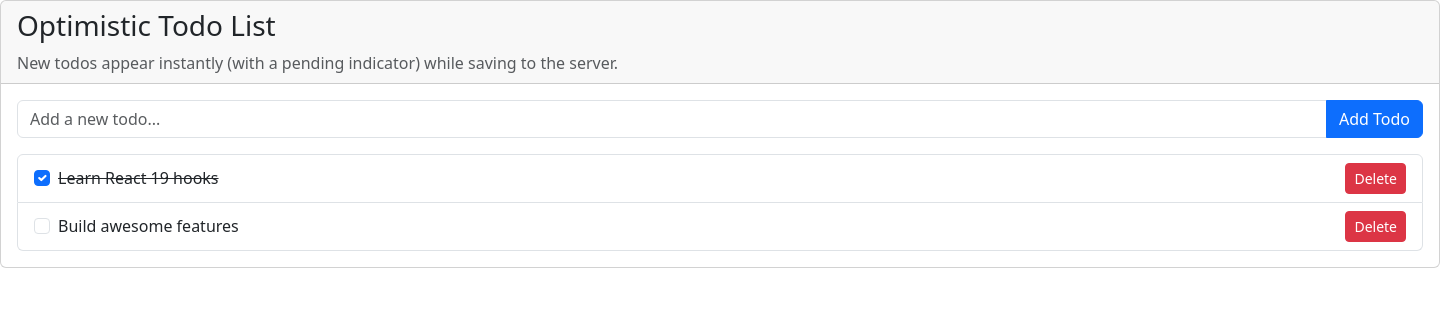
OptimisticTodos › Adding todos › should add todo optimistically
Type "New todo" into the field with placeholder "Add a new todo..." at coordinates (672, 119), box top-left (17, 100), bottom-right (1327, 138)
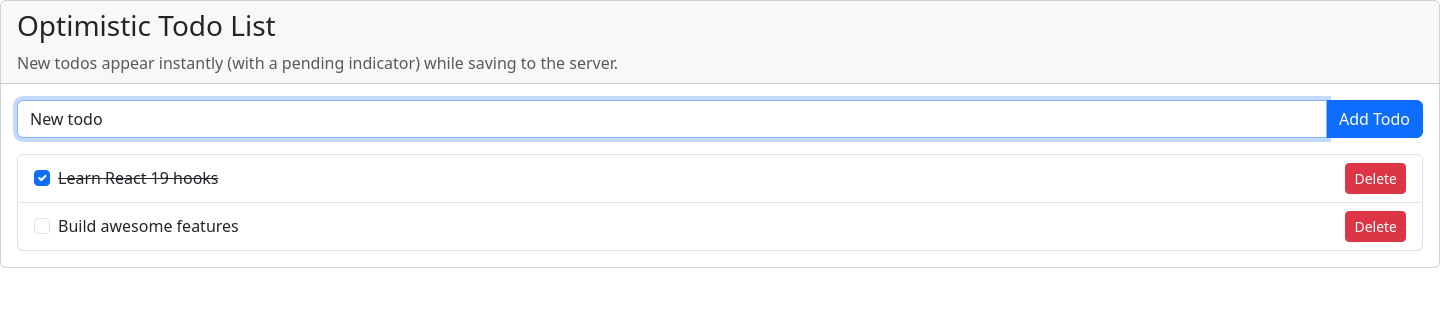
Click the button "Add Todo" at coordinates (1374, 119), box top-left (1326, 100), bottom-right (1423, 138)
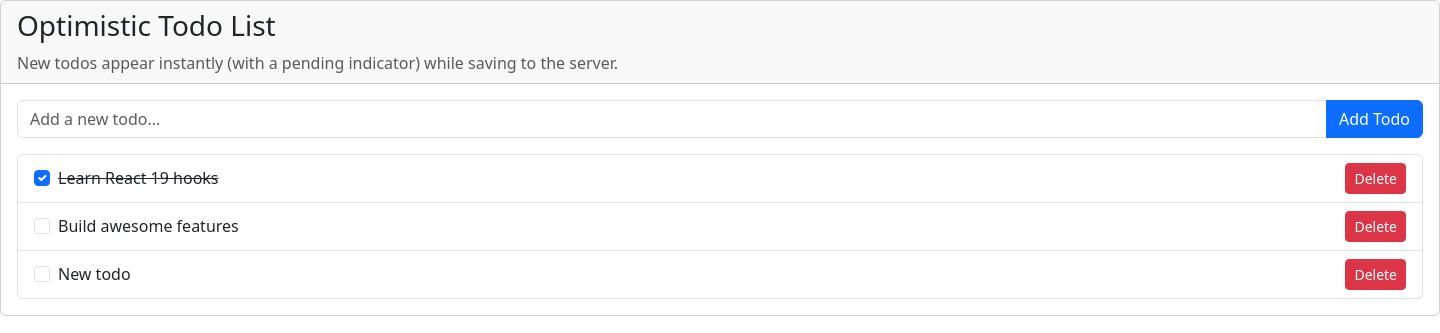
Check: the text "New todo" is shown, box top-left (58, 263), bottom-right (131, 285)
